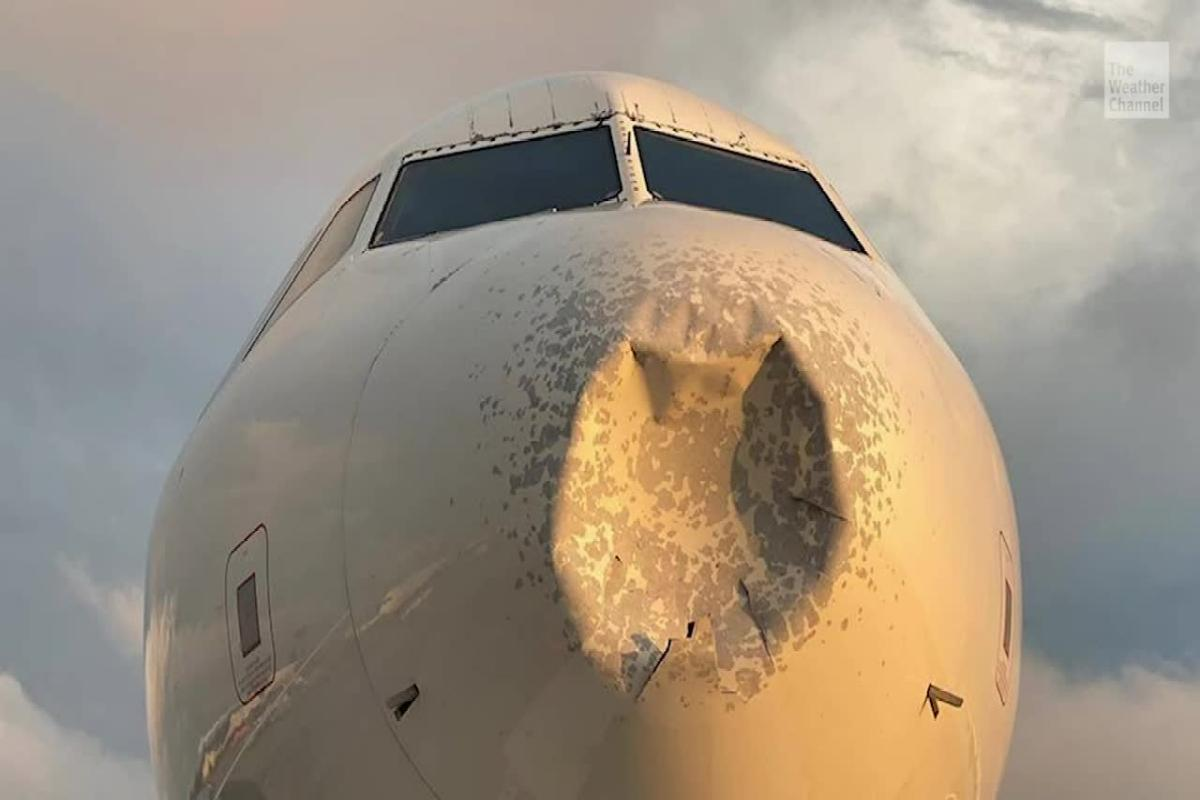Fuselage_damage: (449, 231, 950, 723)
